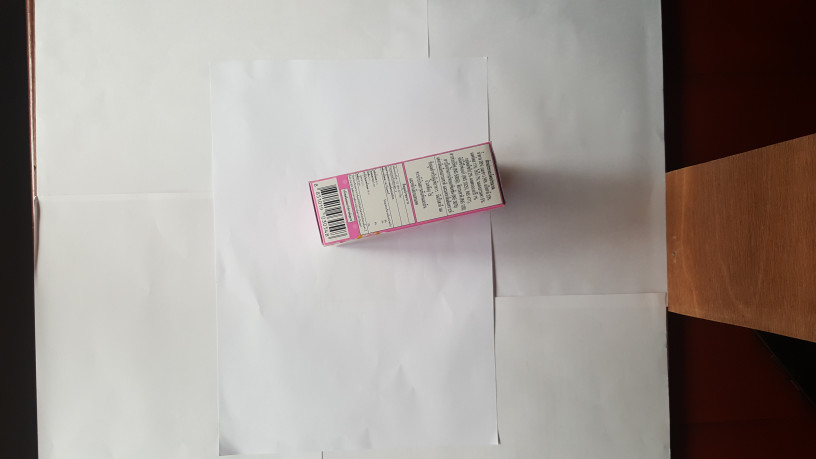collon-strawberry: (307, 141, 507, 249)
